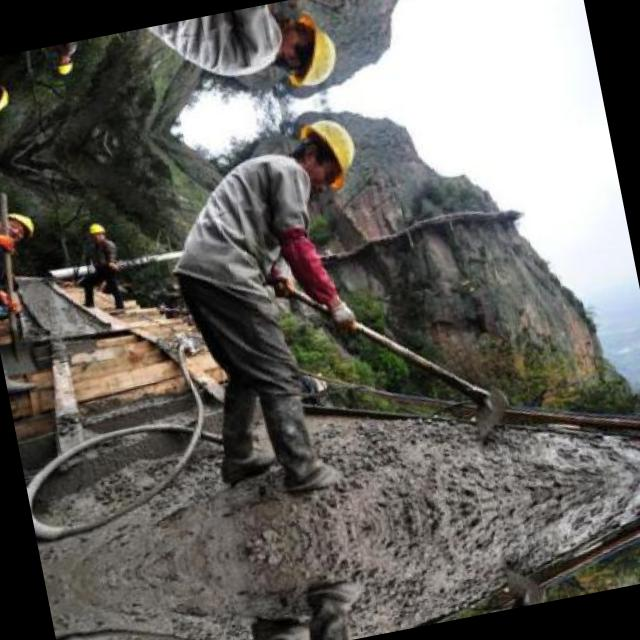helmet: (266, 10, 342, 94), (286, 114, 362, 196), (0, 205, 40, 247), (0, 79, 16, 121), (52, 54, 76, 80), (83, 218, 108, 242)
